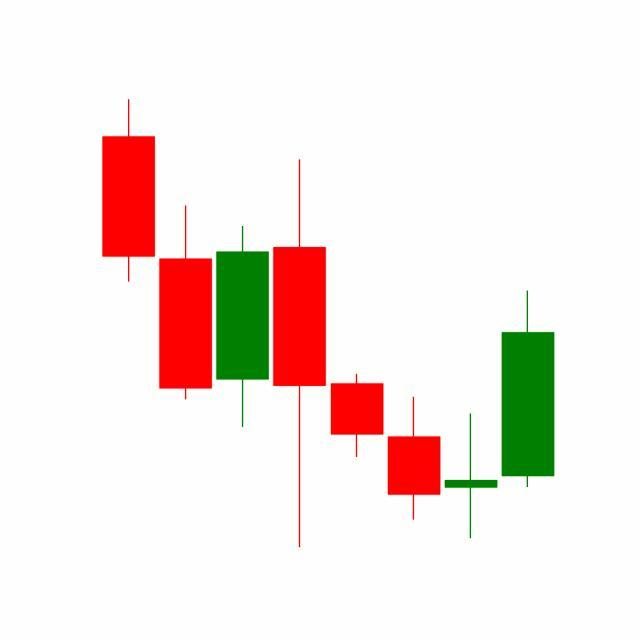Hikkake Pattern: (270, 155, 555, 548)
